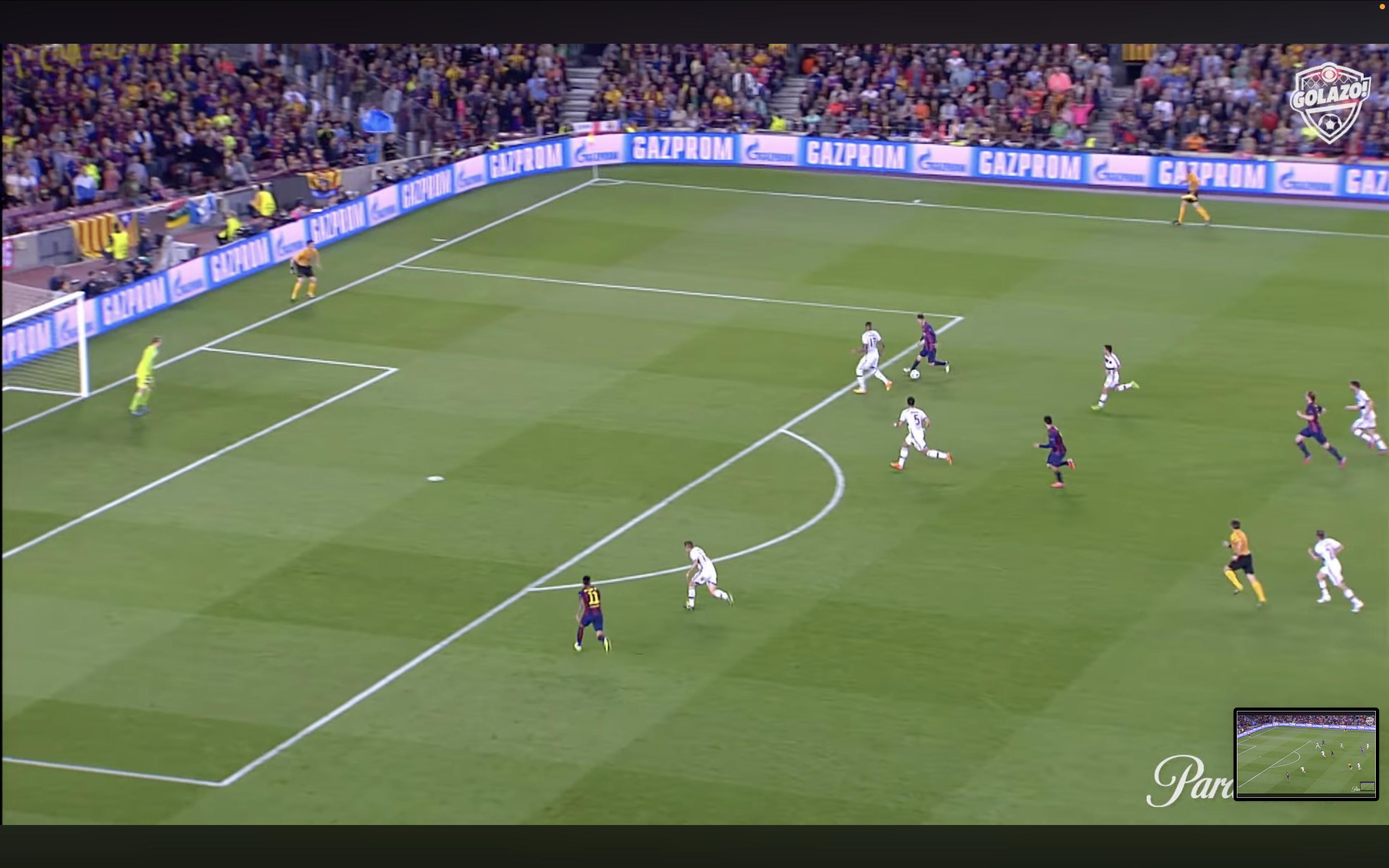ball: (910, 369, 920, 380)
goalkeeper: (129, 336, 161, 416)
player: (1307, 528, 1365, 614), (890, 397, 952, 470), (1294, 391, 1345, 466), (684, 541, 733, 609), (1345, 381, 1389, 454), (851, 322, 893, 394), (904, 314, 950, 379), (1092, 345, 1138, 410), (1034, 416, 1075, 488), (574, 575, 610, 651)
referee: (1222, 520, 1266, 607), (1173, 172, 1211, 227), (290, 240, 320, 303)
